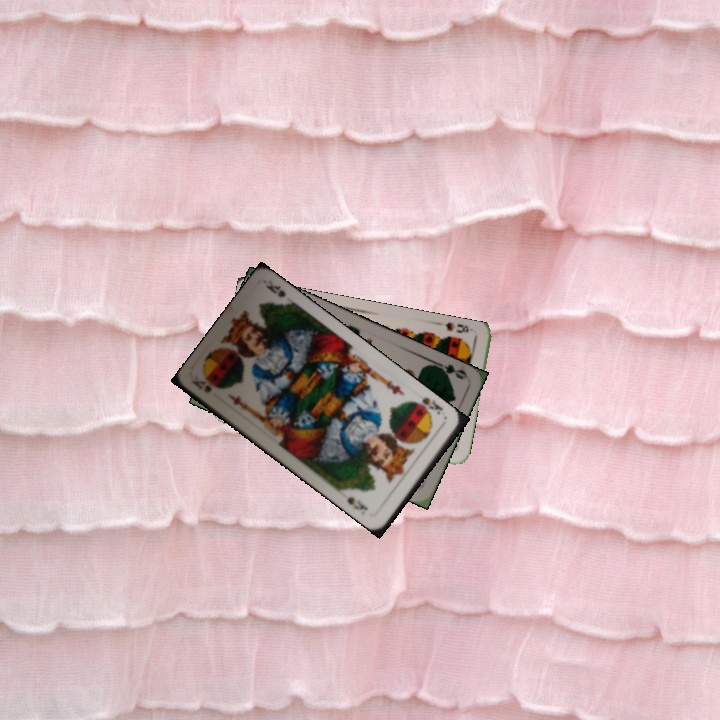GO: (429, 357, 469, 382)
S8: (441, 318, 475, 336)
SK: (411, 393, 445, 419), (189, 373, 214, 395)
